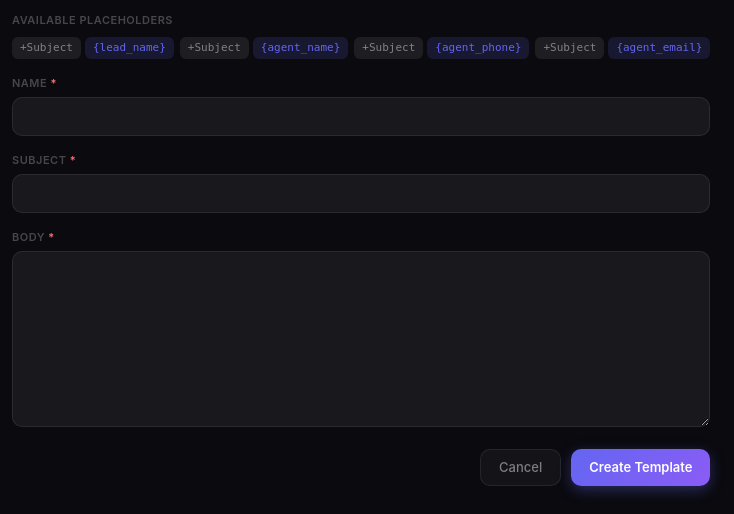
Test case: TemplateEditor › inserts placeholder into body
The image size is (734, 514).
Click the button with test id "insert-body-{lead_name}" at (129, 48), box [85,36,174,59]
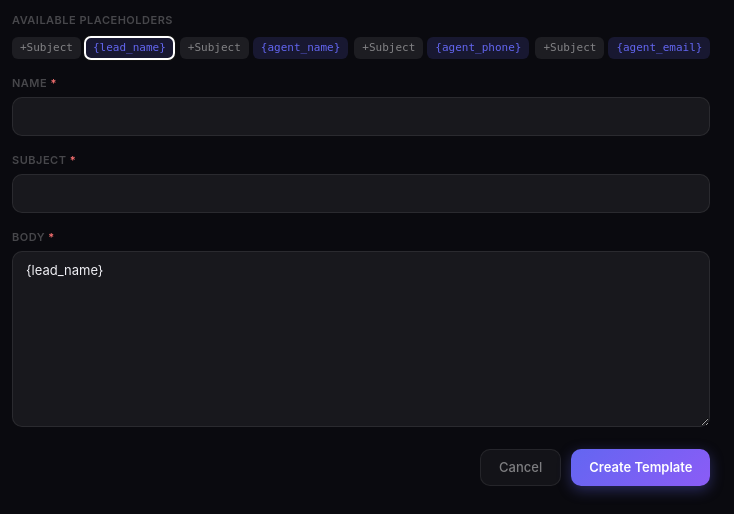
Now the text box with test id "body-input" holds "{lead_name}", box [12,250,710,426]
